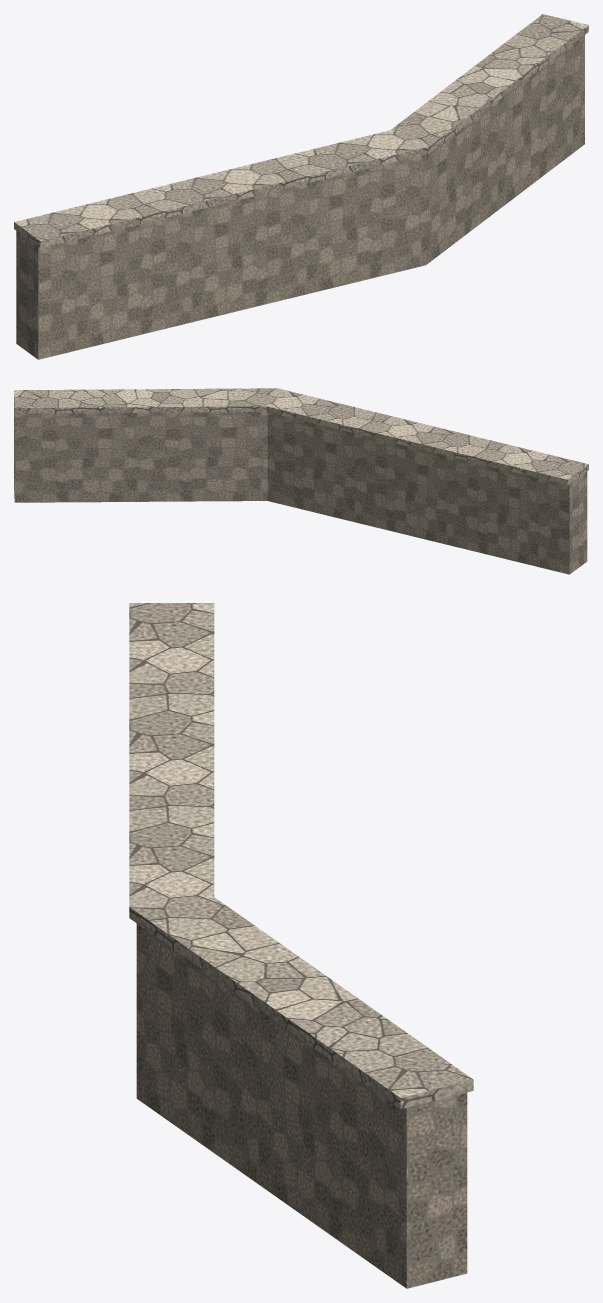
3 renders of one model, top to bottom at view 1: azimuth 30°, elevation 25°; view 2: azimuth 150°, elevation 25°; view 3: azimuth 270°, elevation 25°, orthographic. The views are drawn at different scales.
Visible parts, largest first — view 1: wall.stone (×2); view 2: wall.stone (×2); view 3: wall.stone (×2).
Part boxes in pixels (left/top/right/bottom): wall.stone (×2): left=14, top=14, right=588, bottom=359; wall.stone (×2): left=14, top=388, right=588, bottom=574; wall.stone (×2): left=129, top=603, right=473, bottom=1288.
Size of the model in its own units: 6.62 by 1.95 by 1.2.
Materials: 2 (2 with a texture image).
